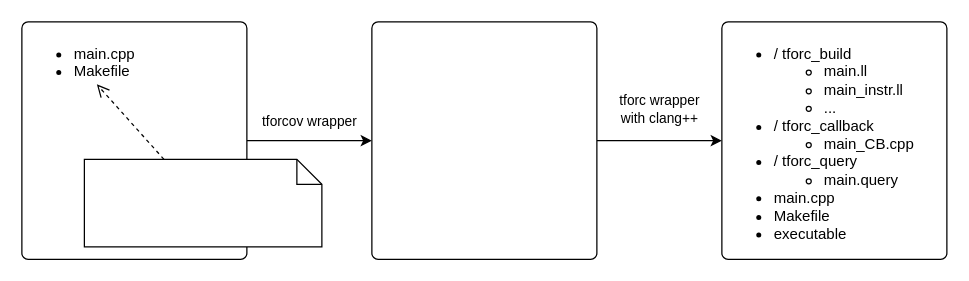
Image size: 969x281. Some labels were removed from this diagram. The shapes that lost their labels are listed below. From the top down, each one's centre as x and y in pixels, then its label:
the point at 484,140: / tforc_callback main_CB.cpp / tforc_query main.query main.cpp Makefile
the point at 202,202: ... clang++ main.cpp -o executable ...
